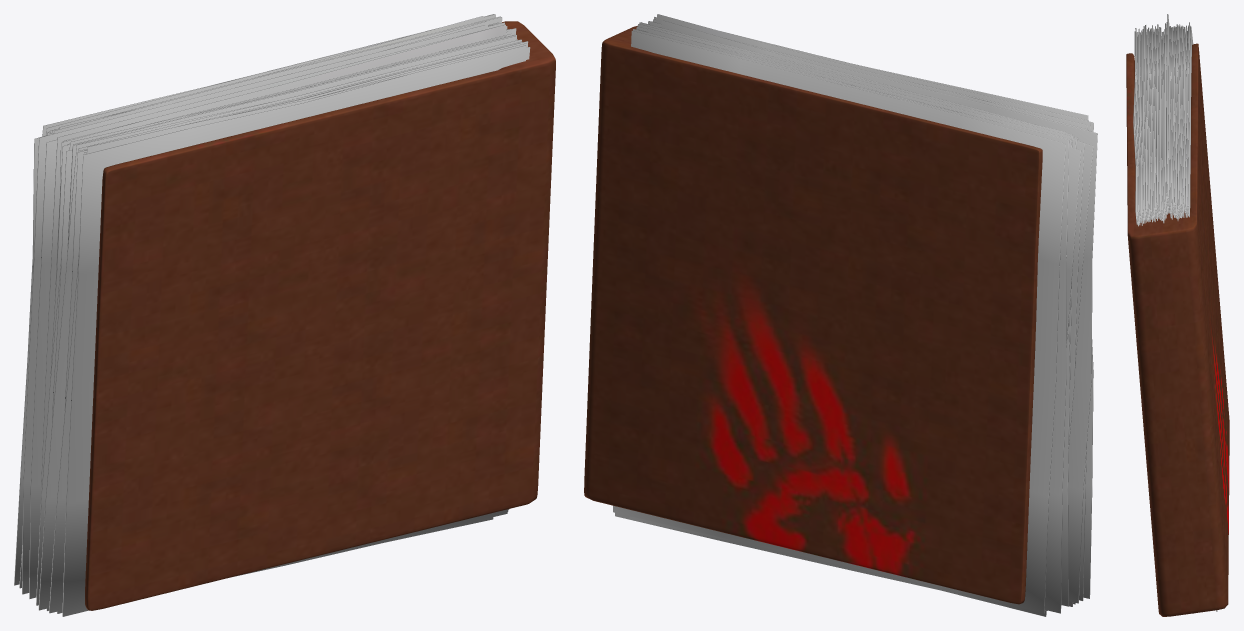
Rendered from livro pequeno com sangue.fbx.
The picture shows the model from 3 angles, left to right: view 1: azimuth 30°, elevation 25°; view 2: azimuth 150°, elevation 25°; view 3: azimuth 270°, elevation 25°; orthographic projection. The views are drawn at different scales.
Parts seen in each view (by area): view 1: livros pequeno_LOD0; view 2: livros pequeno_LOD0; view 3: livros pequeno_LOD0.
Part boxes in pixels (x1,y1,x2,y2): livros pequeno_LOD0: (14, 14, 555, 616); livros pequeno_LOD0: (584, 14, 1097, 616); livros pequeno_LOD0: (1126, 14, 1229, 616).
Size of what is drawn, in the model's own units: 29.96 by 28.7 by 6.43.
